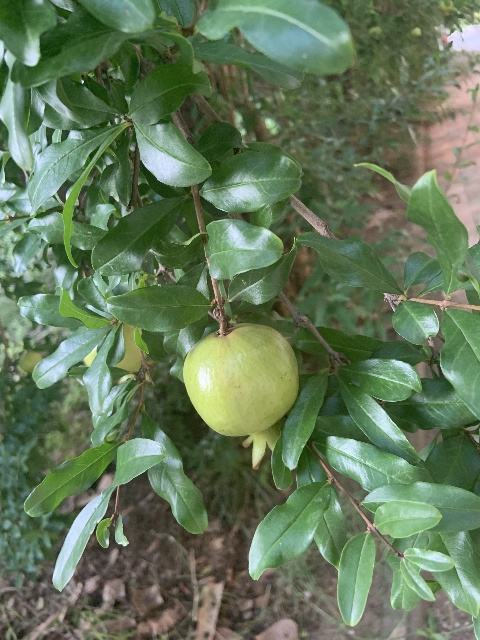mid-growth: (182, 323, 300, 469), (83, 324, 147, 372), (18, 351, 43, 373)
